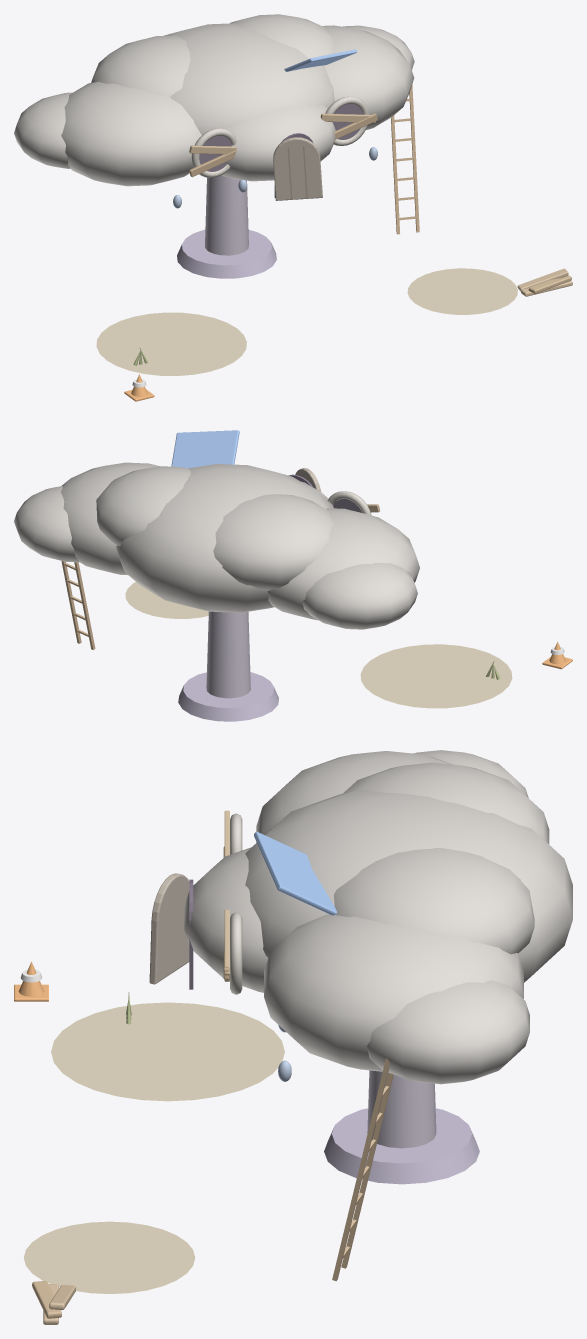
File: building_sky_L02.glb
3 views of the same model, one above another, from view 1: azimuth 30°, elevation 25°; view 2: azimuth 150°, elevation 25°; view 3: azimuth 270°, elevation 25° (orthographic). The views are drawn at different scales.
Parts seen in each view (by area): view 1: Body, sky_L2; view 2: Body, sky_L2; view 3: Body, sky_L2.
Boxes of the visible parts, x1,y1,x2,y2 form: Body: [14, 14, 414, 278]; sky_L2: [96, 61, 572, 401]; Body: [14, 430, 419, 721]; sky_L2: [61, 561, 572, 708]; Body: [149, 750, 572, 1184]; sky_L2: [14, 961, 393, 1324].
Bounding box in the file's own units: 20.56 × 9.99 × 14.34.
